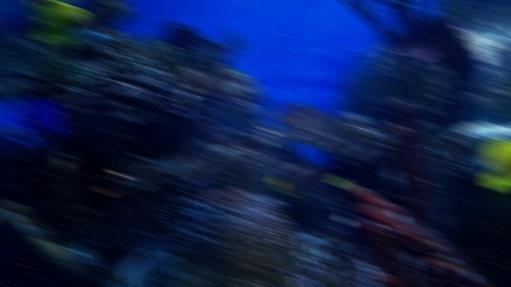Fish: (33, 0, 111, 43), (108, 236, 169, 287), (271, 164, 355, 198), (481, 140, 511, 191)
